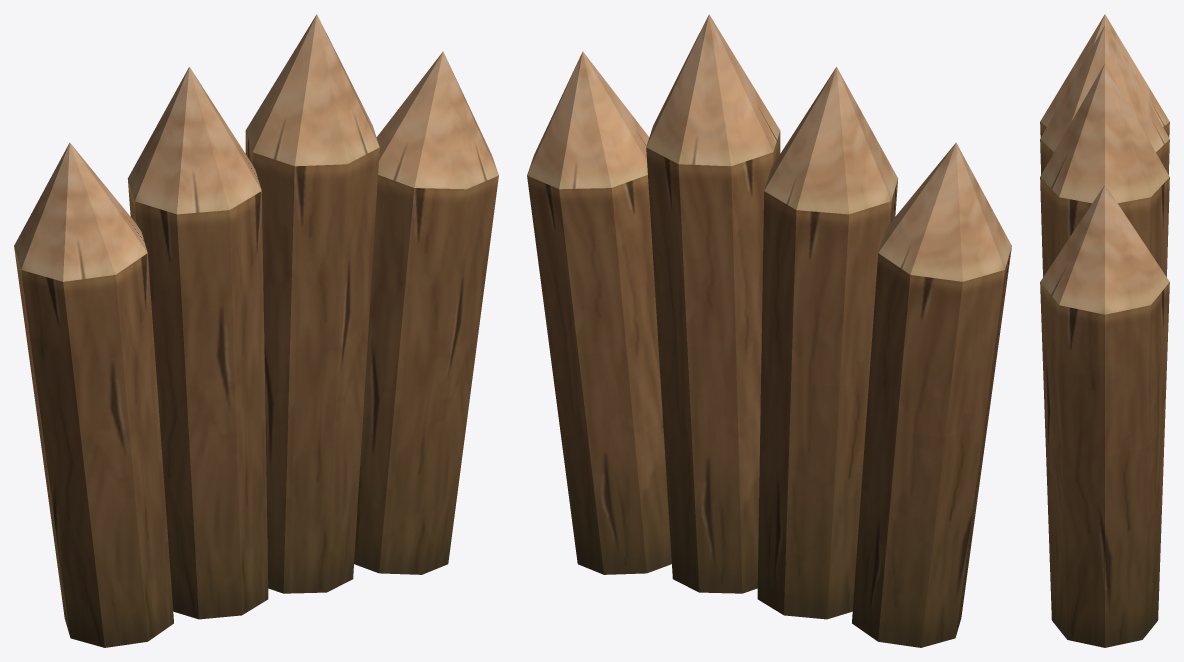
Rendered from wooden_fence_29.fbx.
3 renders of one model, left to right at view 1: azimuth 30°, elevation 25°; view 2: azimuth 150°, elevation 25°; view 3: azimuth 270°, elevation 25°, orthographic. The views are drawn at different scales.
Visible parts, largest first — view 1: wooden_fence_29:Mesh; view 2: wooden_fence_29:Mesh; view 3: wooden_fence_29:Mesh.
Part boxes in pixels (x1,y1,x2,y2): wooden_fence_29:Mesh: (14,14,498,647); wooden_fence_29:Mesh: (527,14,1011,647); wooden_fence_29:Mesh: (1040,14,1169,647).
Bounding box in the file's own units: 3.61 × 4.14 × 0.9226.
